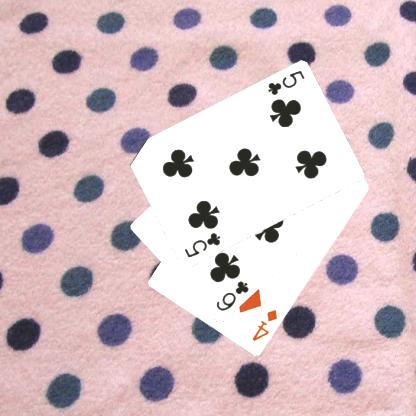4D: (249, 306, 279, 342)
5C: (182, 230, 222, 260), (265, 68, 306, 97)
6C: (214, 278, 250, 314)
